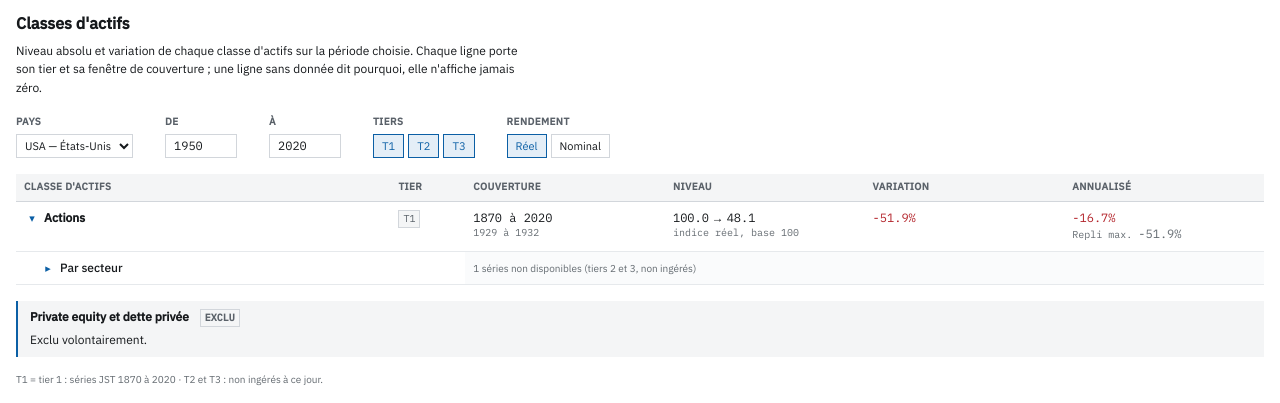
AssetClassesView › switches from real to nominal figures
Click the button "Nominal": {"x": 580, "y": 146} [551,134,610,158]
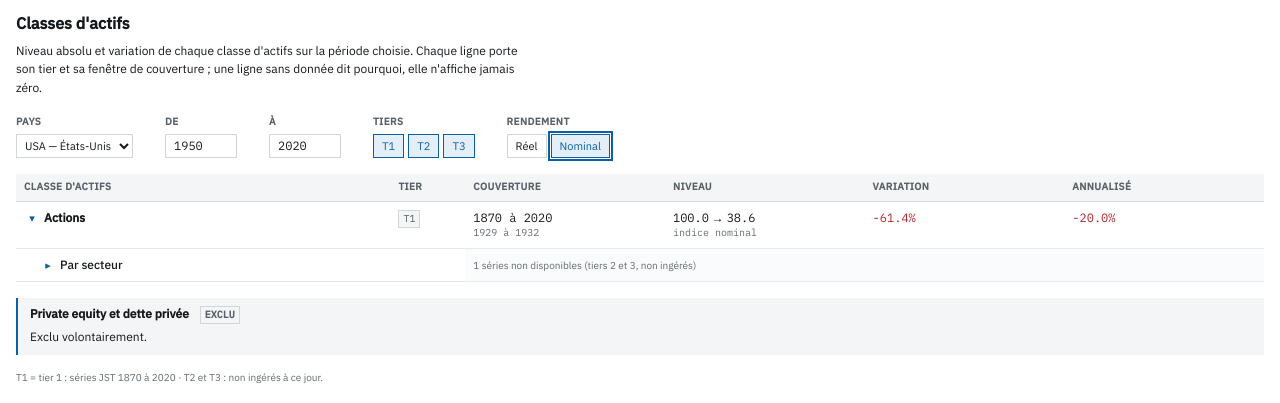
Result: the text "38.6" is shown at [727,210,755,225]
Result: the text "-61.4%" is shown at [873,210,916,225]
